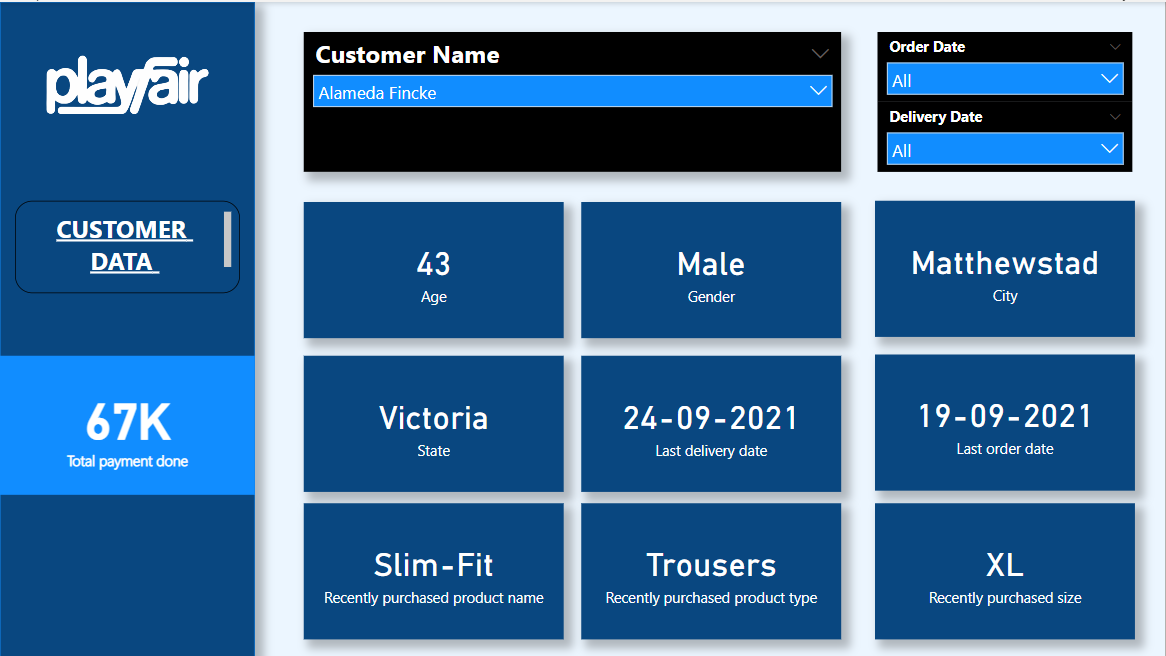

The dashboard page shown, as its layout file describes it:
{"tool":"powerbi","page":{"name":"Customer Data","canvas":[1280,720],"ordinal":1},"visuals":[{"type":"shape","box":[0,0,280.2,719.7],"z":0},{"type":"card","fields":{"Values":["Merge1.payment"]},"box":[0,388.7,280.2,152.4],"z":1000},{"type":"slicer","fields":{"Values":["Merge1.customer_name"]},"box":[333.7,33,590.6,153.8],"z":2000},{"type":"card","fields":{"Values":["Merge1.city"]},"box":[961.4,218.4,285.7,149.7],"z":3000},{"type":"card","fields":{"Values":["Merge1.state"]},"box":[333.7,388.7,285.7,149.7],"z":4000},{"type":"card","fields":{"Values":["Merge1.delivery date"]},"box":[638.6,388.7,285.7,149.7],"z":5000},{"type":"card","fields":{"Values":["Merge1.order date"]},"box":[961.4,387.3,285.7,149.7],"z":6000},{"type":"card","fields":{"Values":["Merge1.size"]},"box":[961.4,550.7,285.7,149.7],"z":7000},{"type":"card","fields":{"Values":["Merge1.product_type"]},"box":[638.6,550.7,285.7,149.7],"z":8000},{"type":"card","fields":{"Values":["Merge1.product_name"]},"box":[333.7,550.7,285.7,149.7],"z":9000},{"type":"card","fields":{"Values":["Merge1.gender"]},"box":[638.6,219.7,285.7,149.7],"z":10000},{"type":"card","fields":{"Values":["Merge1.age"]},"box":[333.7,219.7,285.7,149.7],"z":11000},{"type":"textbox","box":[16.5,218.4,247.2,101.6],"z":12000},{"type":"slicer","fields":{"Values":["Merge1.order_date"]},"box":[964.1,33,280.2,76.9],"z":13000},{"type":"slicer","fields":{"Values":["Merge1.delivery date"]},"box":[964.1,109.9,280.2,76.9],"z":14000},{"type":"image","box":[8.2,34.3,263.7,114],"z":15000}]}

Visuals, with their boxes in screenshot pixels (x1, y1, x2, y2), scaled from the page's 1280x720 canvas onto the 1166x656 screenshot:
shape: <region>0, 0, 255, 655</region>
card - Merge1.payment: <region>0, 354, 255, 493</region>
slicer - Merge1.customer_name: <region>304, 30, 842, 170</region>
card - Merge1.city: <region>876, 199, 1136, 335</region>
card - Merge1.state: <region>304, 354, 564, 491</region>
card - Merge1.delivery date: <region>582, 354, 842, 491</region>
card - Merge1.order date: <region>876, 353, 1136, 489</region>
card - Merge1.size: <region>876, 502, 1136, 638</region>
card - Merge1.product_type: <region>582, 502, 842, 638</region>
card - Merge1.product_name: <region>304, 502, 564, 638</region>
card - Merge1.gender: <region>582, 200, 842, 337</region>
card - Merge1.age: <region>304, 200, 564, 337</region>
textbox: <region>15, 199, 240, 292</region>
slicer - Merge1.order_date: <region>878, 30, 1133, 100</region>
slicer - Merge1.delivery date: <region>878, 100, 1133, 170</region>
image: <region>7, 31, 248, 135</region>
